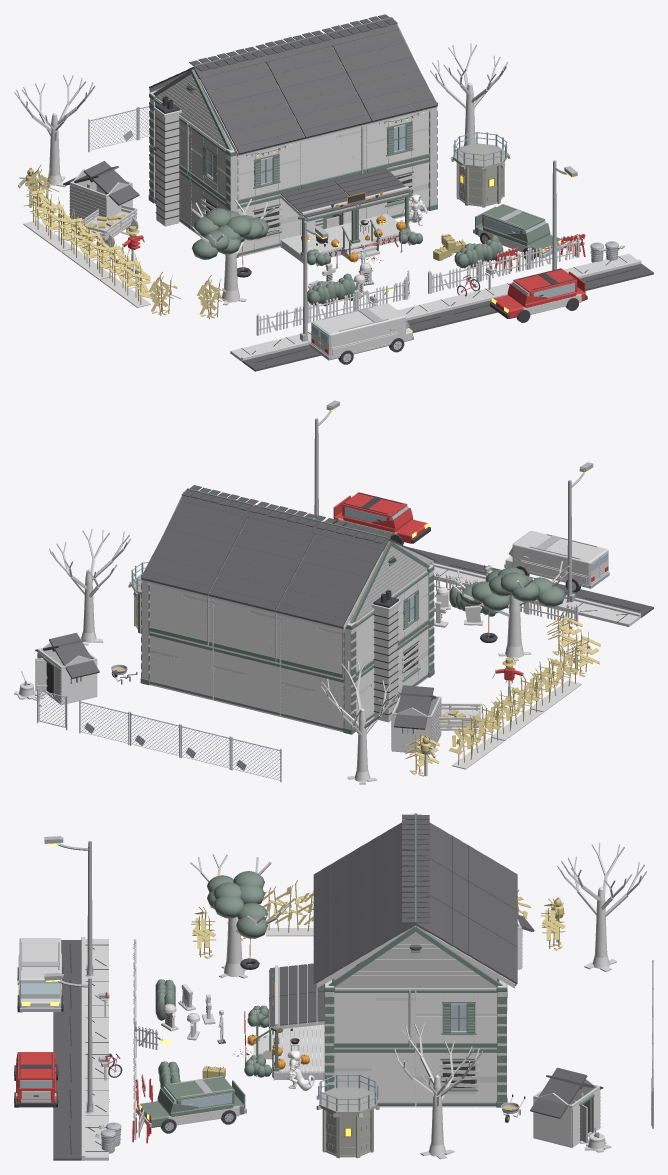
The model's file is mes un tritreglb.glb.
The picture shows the model from 3 angles, top to bottom: view 1: azimuth 30°, elevation 25°; view 2: azimuth 150°, elevation 25°; view 3: azimuth 270°, elevation 25°; orthographic projection. The views are drawn at different scales.
Parts seen in each view (by area): view 1: 024-roof-slope-panel/1, 025-roof-slope-panel/1, 026-roof-slope-panel/1, 011-upper-floor-wall-bay/0, 035-block-chimney-stack/0, 088-panel-van/0, 064-tyre-swing-tree/1, 012-upper-floor-window-bay/0, 010-upper-floor-window-bay/0, 089-station-wagon-faded/0, 087-station-wagon/0, lighthouse-mid-stage (+52 smaller); view 2: 028-roof-slope-panel/1, 027-roof-slope-panel/1, 029-roof-slope-panel/1, 004-clapboard-wall-bay/0, 005-clapboard-wall-bay/0, 014-upper-floor-wall-bay/0, 003-clapboard-wall-bay/0, 015-upper-floor-wall-bay/0, 064-tyre-swing-tree/1, 013-upper-floor-wall-bay/0, 088-panel-van/0, 035-block-chimney-stack/0 (+39 smaller); view 3: 033-gable-end-wall/0, 019-upper-floor-wall-bay/0, 026-roof-slope-panel/1, 029-roof-slope-panel/1, 018-upper-floor-window-bay/0, 009-clapboard-wall-bay/0, 028-roof-slope-panel/1, 027-roof-slope-panel/1, 025-roof-slope-panel/1, 024-roof-slope-panel/1, 064-tyre-swing-tree/1, 008-boarded-window-bay/0 (+49 smaller).
Boxes of the visible parts, bbox=[...] form: 024-roof-slope-panel/1: bbox=[200, 62, 304, 154]; 025-roof-slope-panel/1: bbox=[266, 46, 371, 137]; 026-roof-slope-panel/1: bbox=[332, 30, 437, 121]; 011-upper-floor-wall-bay/0: bbox=[299, 126, 366, 188]; 035-block-chimney-stack/0: bbox=[153, 106, 181, 226]; 088-panel-van/0: bbox=[312, 303, 412, 359]; 064-tyre-swing-tree/1: bbox=[192, 208, 269, 259]; 012-upper-floor-window-bay/0: bbox=[366, 111, 429, 172]; 010-upper-floor-window-bay/0: bbox=[237, 142, 299, 204]; 089-station-wagon-faded/0: bbox=[492, 268, 585, 318]; 087-station-wagon/0: bbox=[475, 204, 562, 257]; lighthouse-mid-stage: bbox=[456, 162, 504, 207]; 028-roof-slope-panel/1: bbox=[208, 517, 315, 610]; 027-roof-slope-panel/1: bbox=[276, 534, 382, 627]; 029-roof-slope-panel/1: bbox=[141, 501, 247, 594]; 004-clapboard-wall-bay/0: bbox=[213, 648, 281, 716]; 005-clapboard-wall-bay/0: bbox=[149, 635, 213, 700]; 014-upper-floor-wall-bay/0: bbox=[213, 599, 281, 663]; 003-clapboard-wall-bay/0: bbox=[281, 664, 344, 731]; 015-upper-floor-wall-bay/0: bbox=[149, 583, 213, 647]; 064-tyre-swing-tree/1: bbox=[459, 567, 565, 610]; 013-upper-floor-wall-bay/0: bbox=[281, 615, 343, 679]; 088-panel-van/0: bbox=[505, 530, 607, 588]; 035-block-chimney-stack/0: bbox=[371, 600, 400, 722]; 033-gable-end-wall/0: bbox=[335, 932, 496, 987]; 019-upper-floor-wall-bay/0: bbox=[334, 988, 415, 1048]; 026-roof-slope-panel/1: bbox=[313, 895, 402, 984]; 029-roof-slope-panel/1: bbox=[428, 895, 517, 984]; 018-upper-floor-window-bay/0: bbox=[415, 988, 497, 1048]; 009-clapboard-wall-bay/0: bbox=[334, 1050, 415, 1107]; 028-roof-slope-panel/1: bbox=[429, 859, 517, 946]; 027-roof-slope-panel/1: bbox=[429, 822, 517, 910]; 025-roof-slope-panel/1: bbox=[313, 859, 402, 946]; 024-roof-slope-panel/1: bbox=[313, 822, 402, 910]; 064-tyre-swing-tree/1: bbox=[207, 871, 267, 938]; 008-boarded-window-bay/0: bbox=[415, 1048, 497, 1107].
Size of the model in its own units: 26.96 by 9.92 by 29.67.
